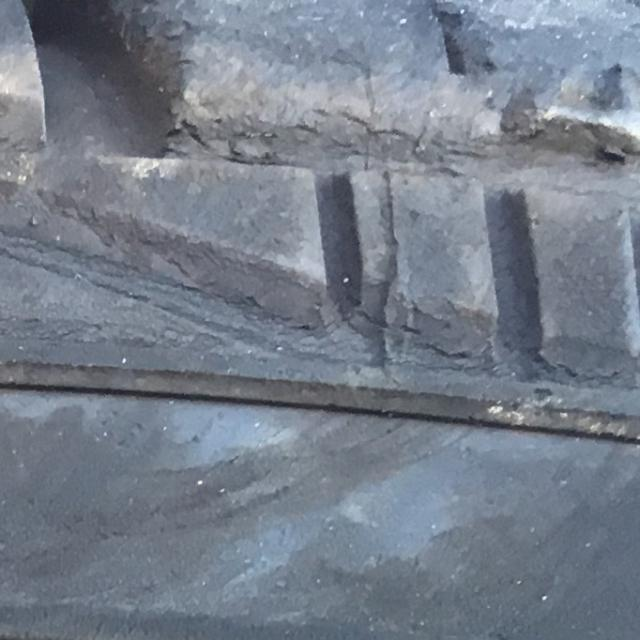Cracks: (0, 194, 639, 391), (85, 0, 578, 187)
Non-defective: (0, 401, 640, 640)
